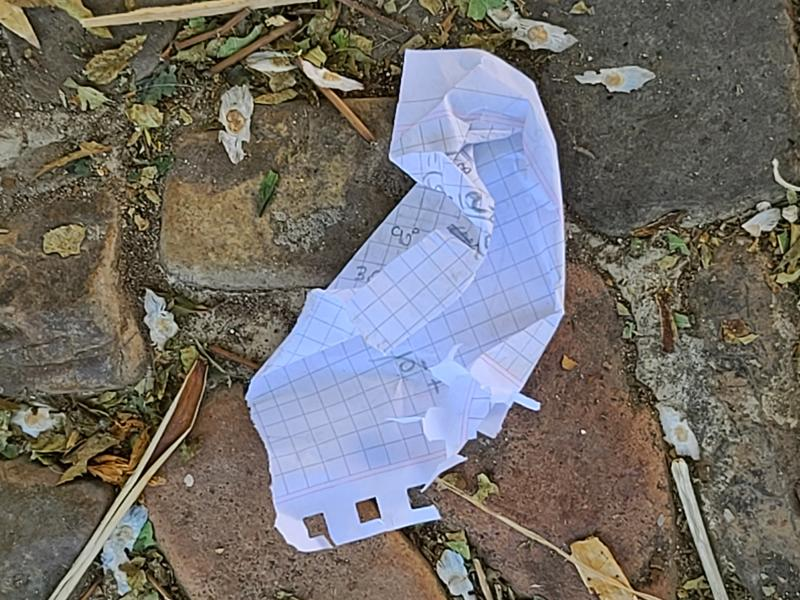papel: (244, 49, 566, 556)
